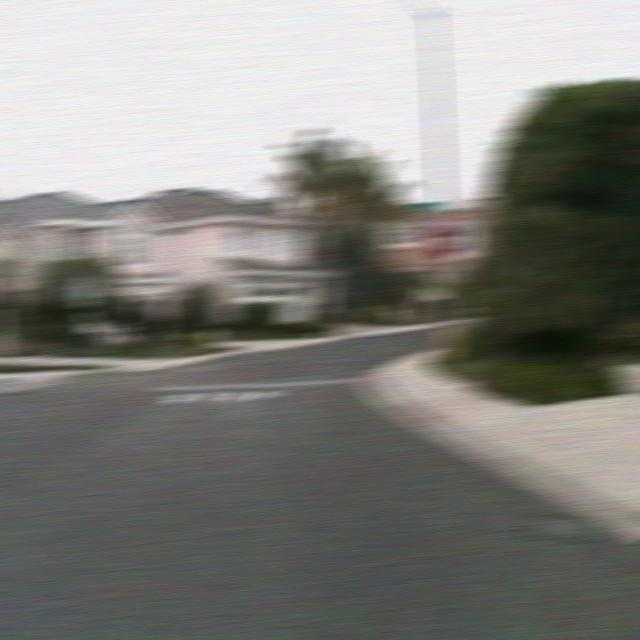stop_sign: (425, 223, 460, 261)
